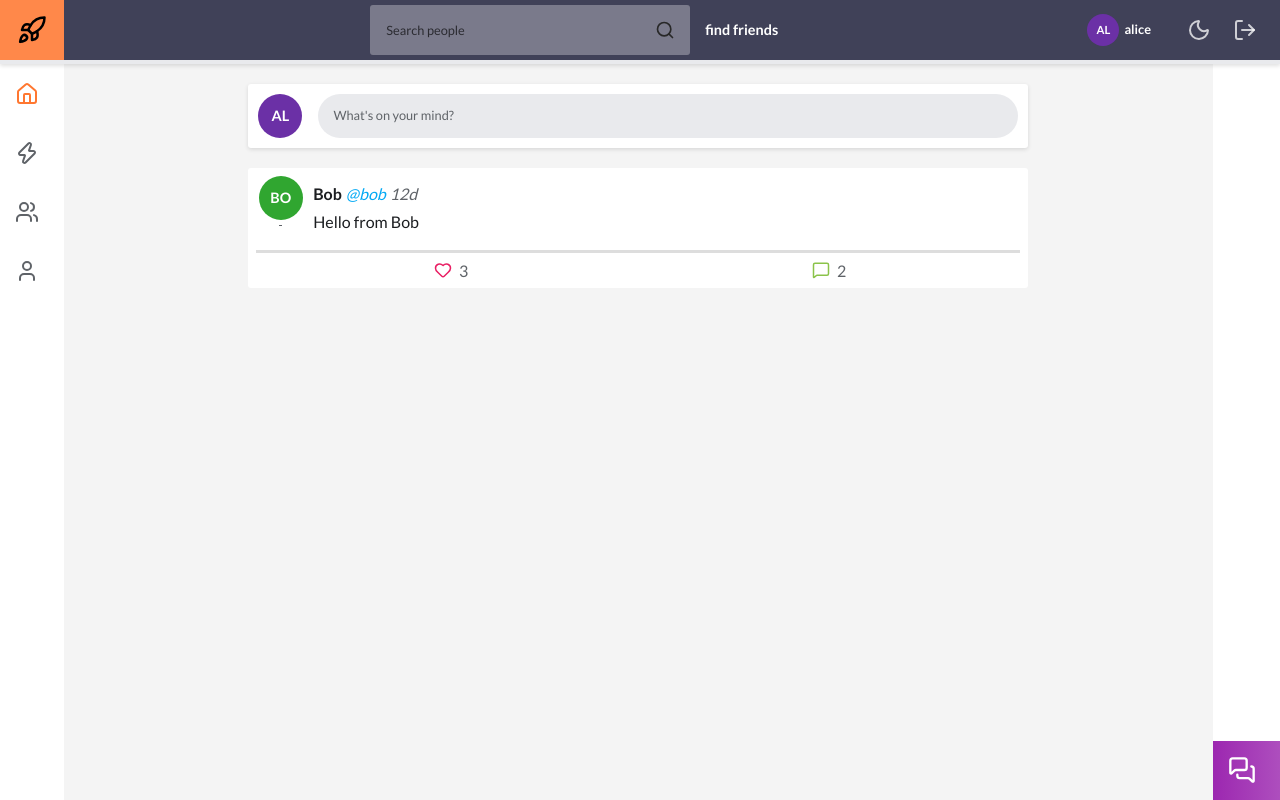
Test: comments › deletes a comment and lowers the counter
This screenshot has width=1280, height=800.
Click the button named "Comments": point(827, 270) [638,257,1016,284]
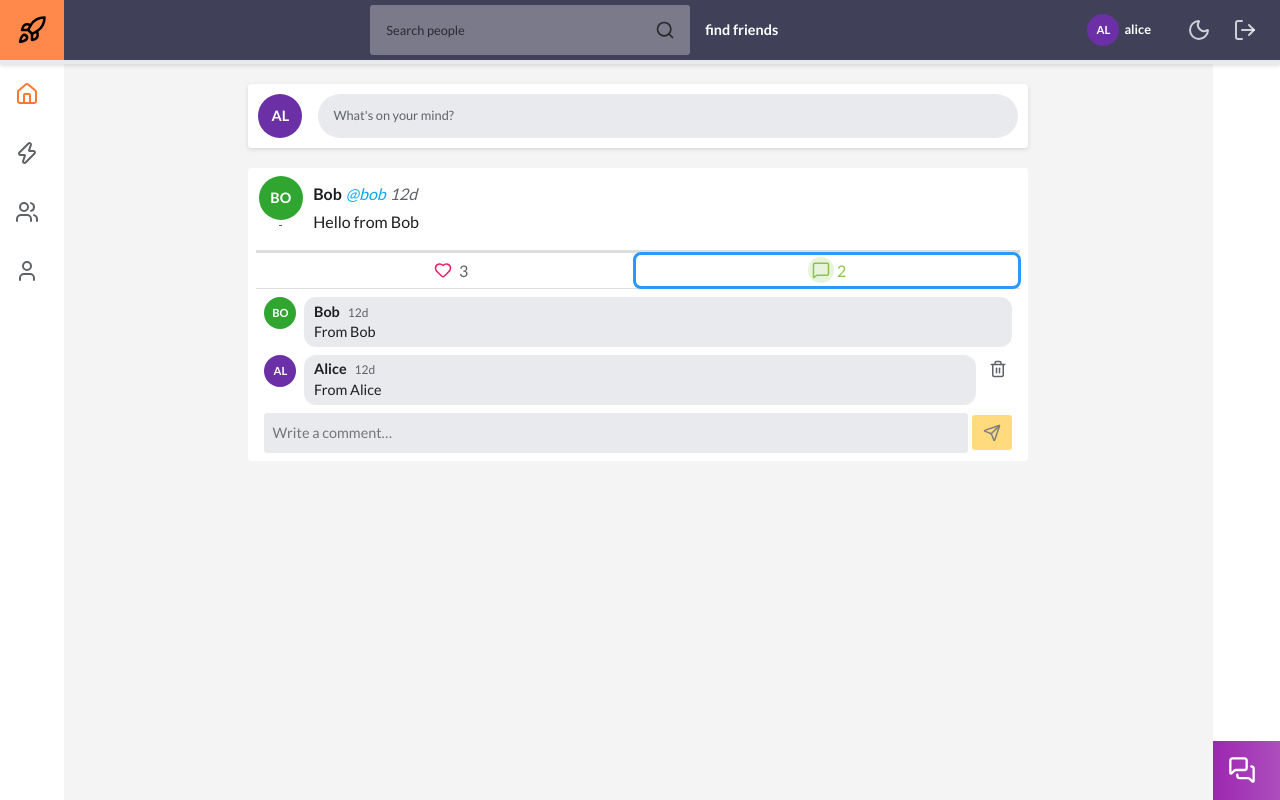
Click the button named "Delete comment by alice" in the row of "From Alice": point(998, 369) [984,355,1012,384]
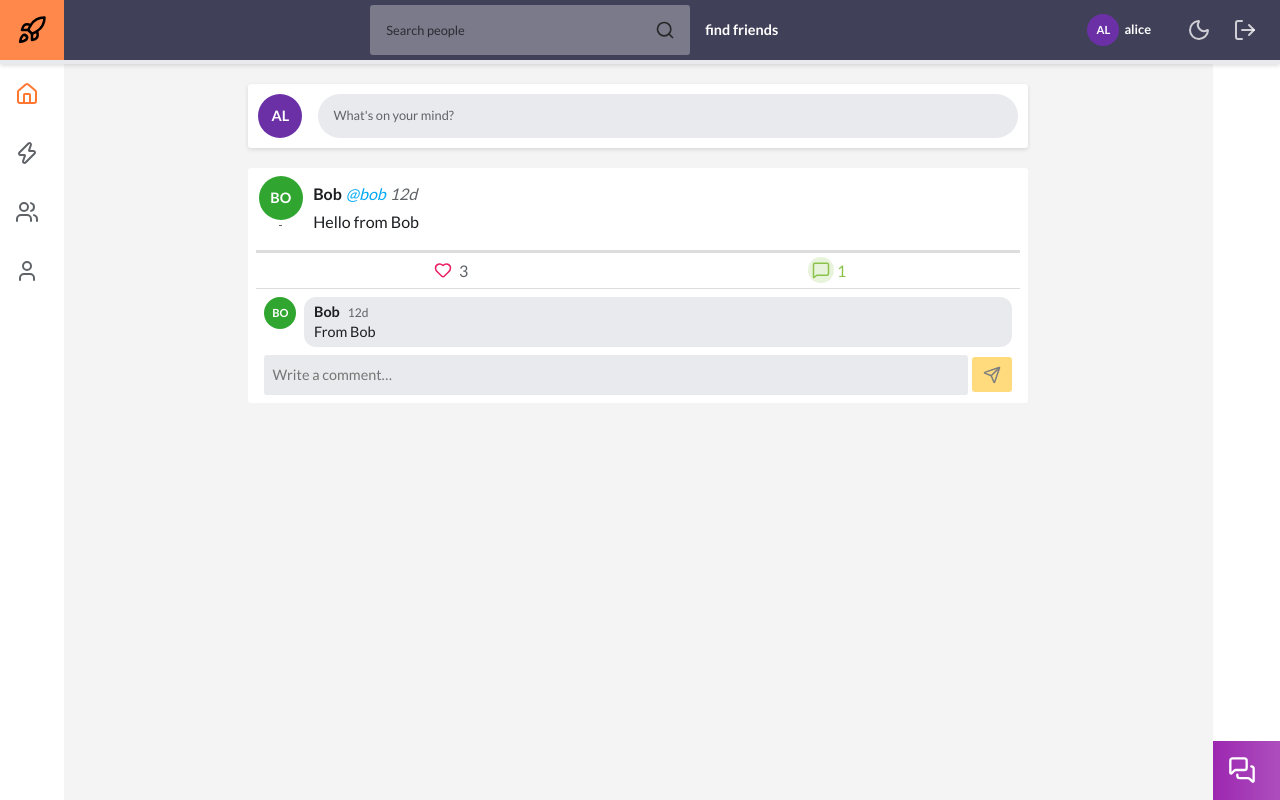
Now the text "From Bob" is shown, box [314,323,376,340]
Now the text "From Alice" is gone
Now the button named "Comments" reads "1", box [638,257,1016,284]
